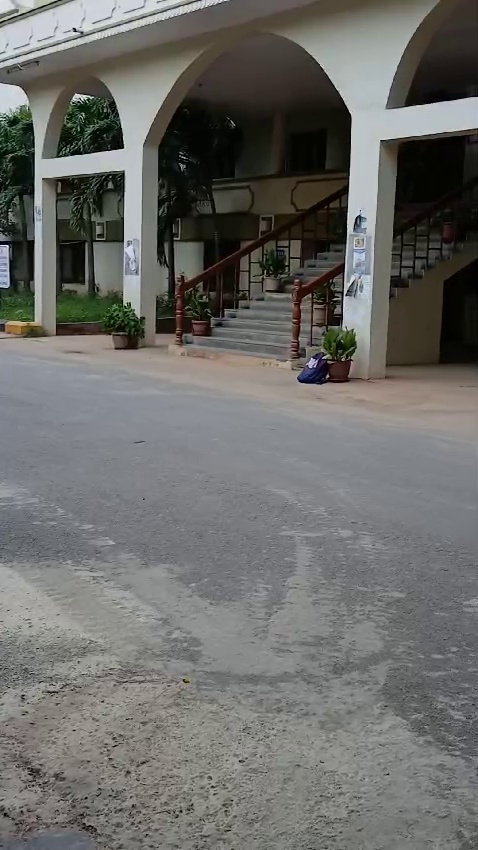bag: (289, 345, 325, 395)
